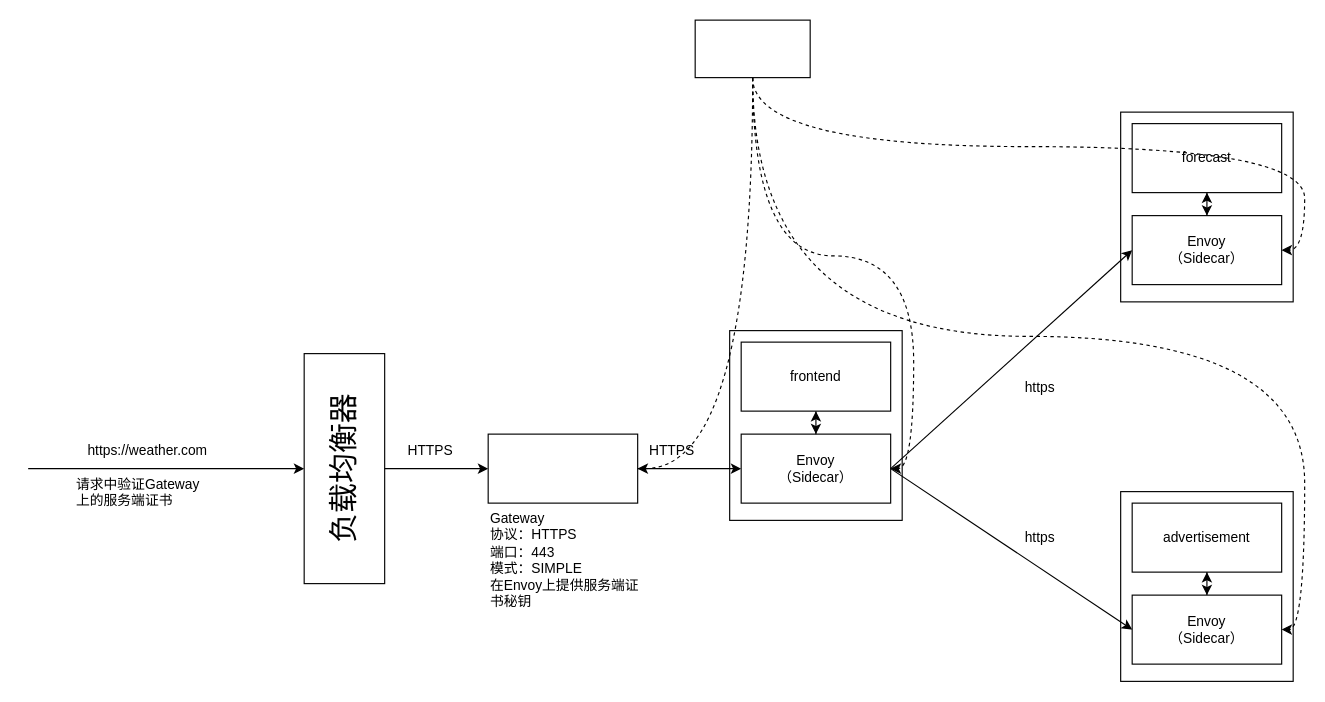
This 1325x702 diagram has some shape labels left out. The shapes that lost their labels are listed below. From the top down, each one's box as (x1, y1, x2, y2) in pixels, then its label:
(694, 19, 810, 78): Citadel
(487, 433, 638, 503): Envoy （Gateway）
